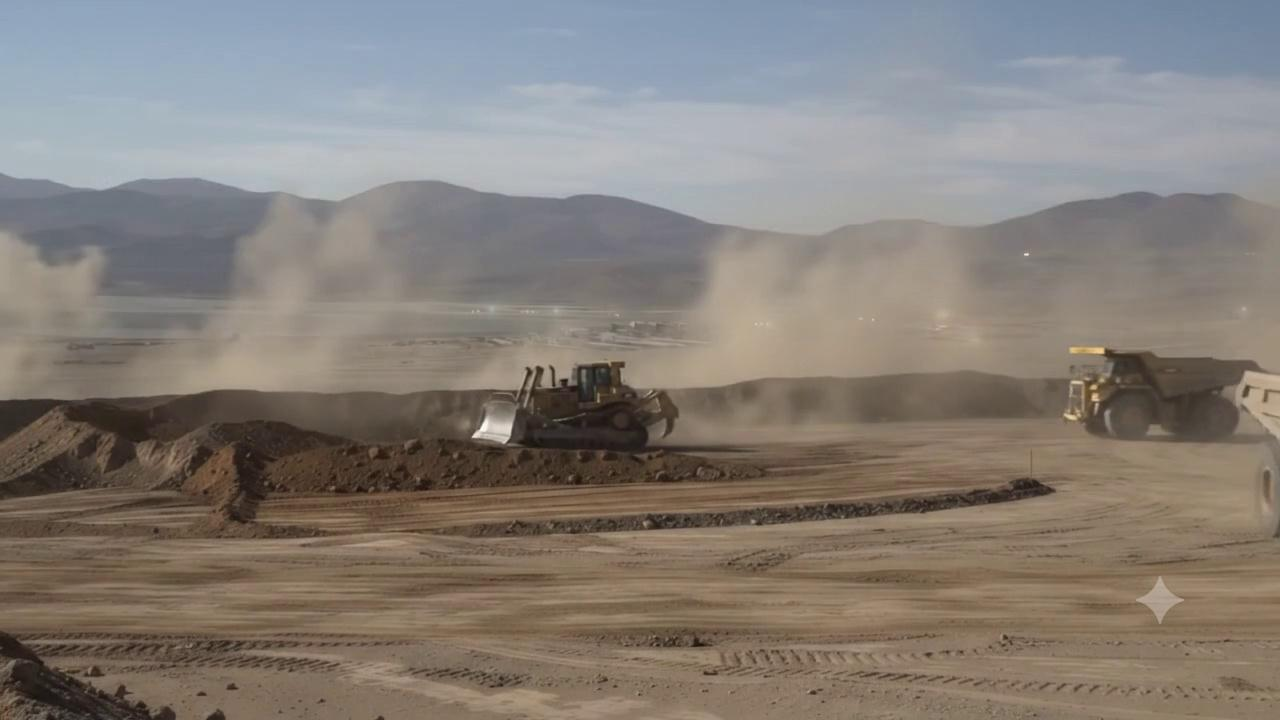CAEX: (469, 361, 680, 452), (1063, 346, 1265, 441)
